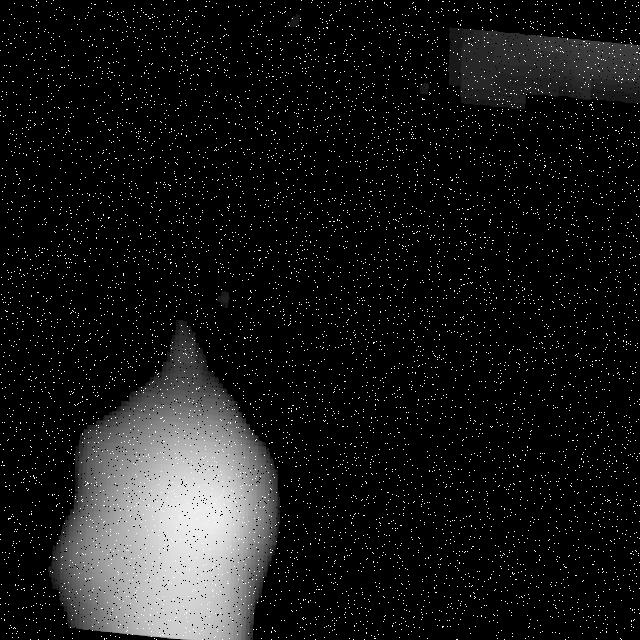person: (57, 342, 290, 640)
